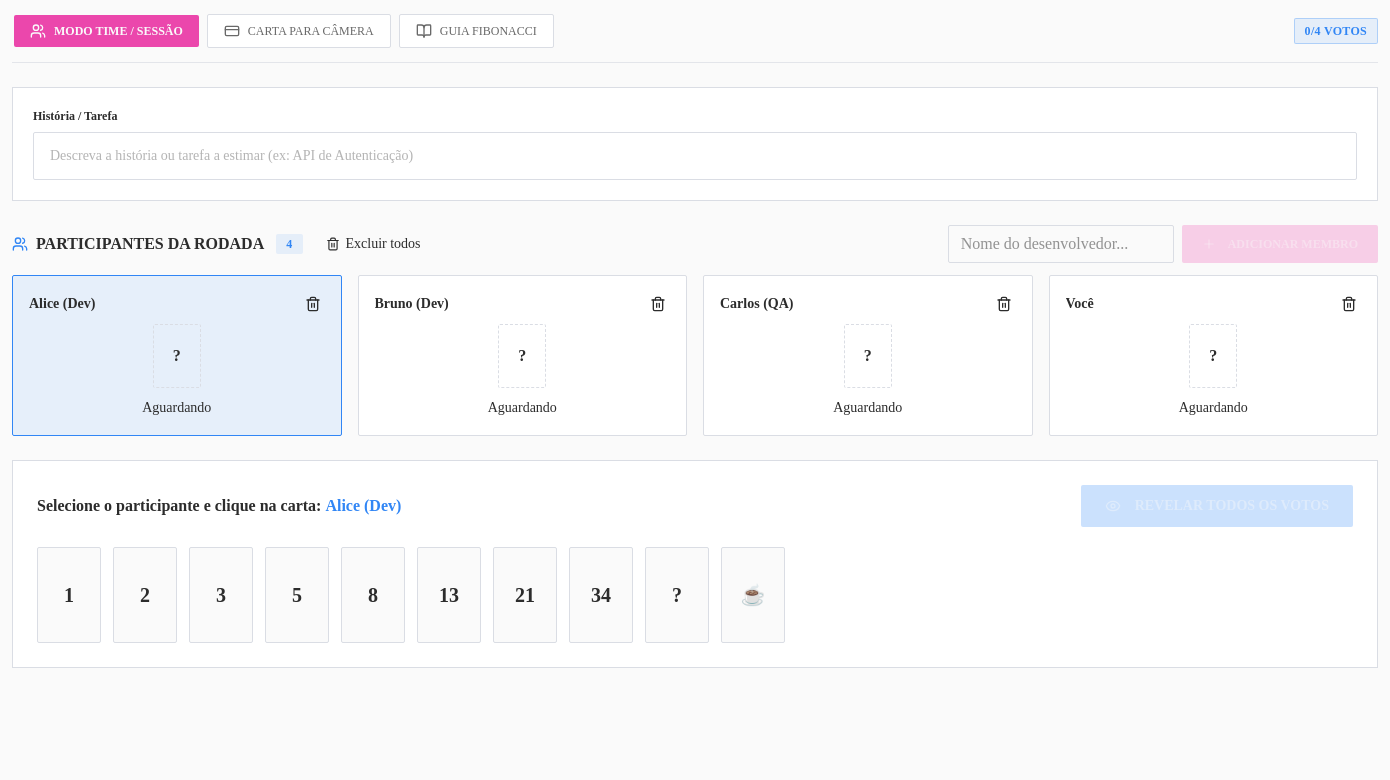
Scenario: Agile Tools Integration Tests › PlanningPokerClient › allows deleting individual participants down to zero
Click the button named "remover participante": [312, 304] box [300,292,324,316]
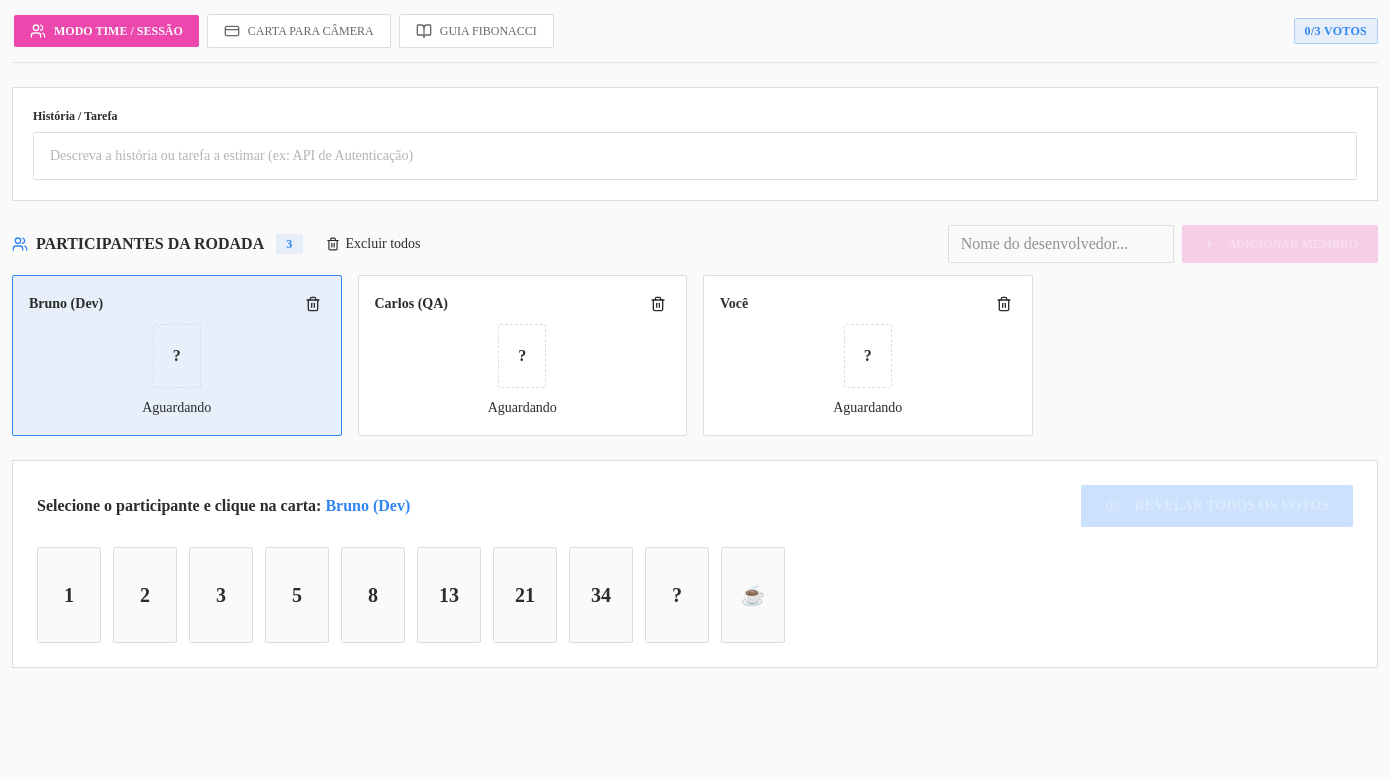
Click the button named "remover participante": [312, 304] box [300,292,324,316]
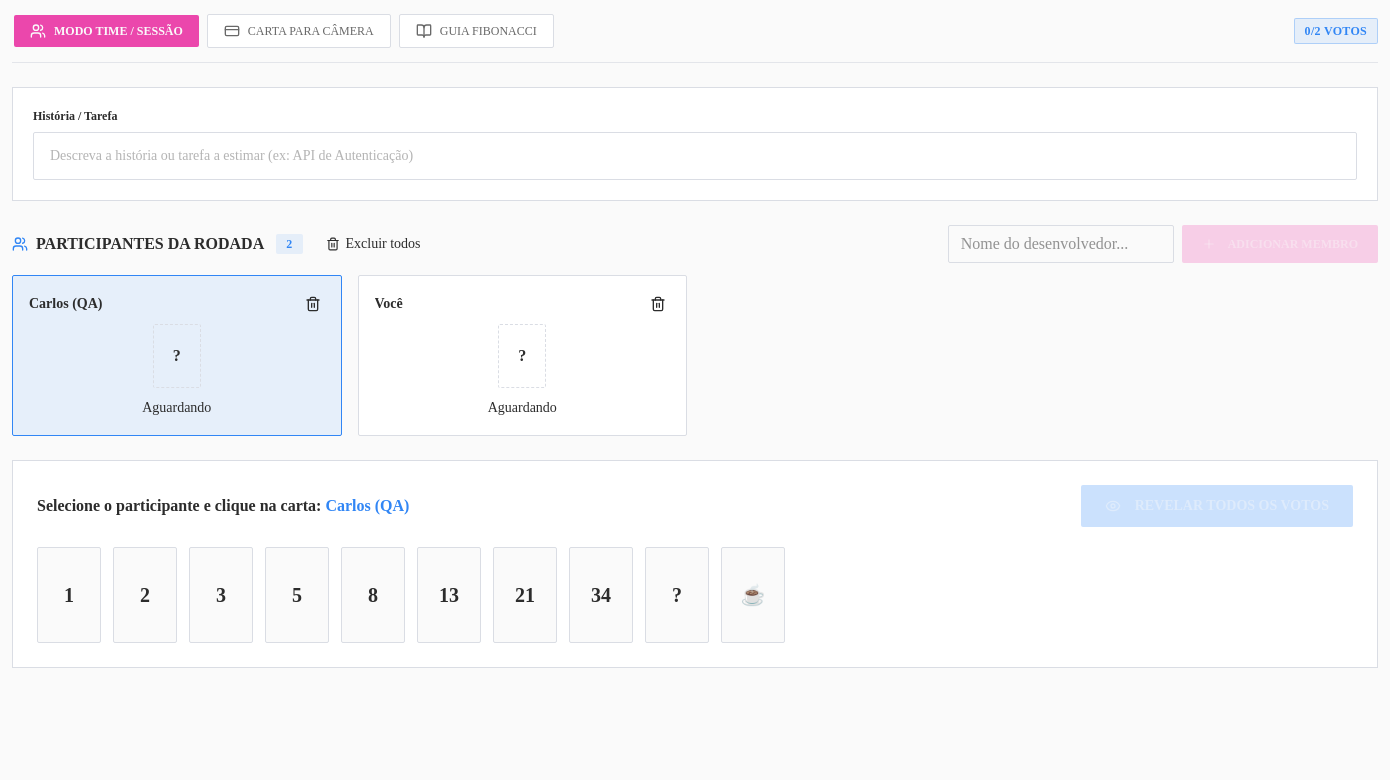
Click the button named "remover participante": [312, 304] box [300,292,324,316]
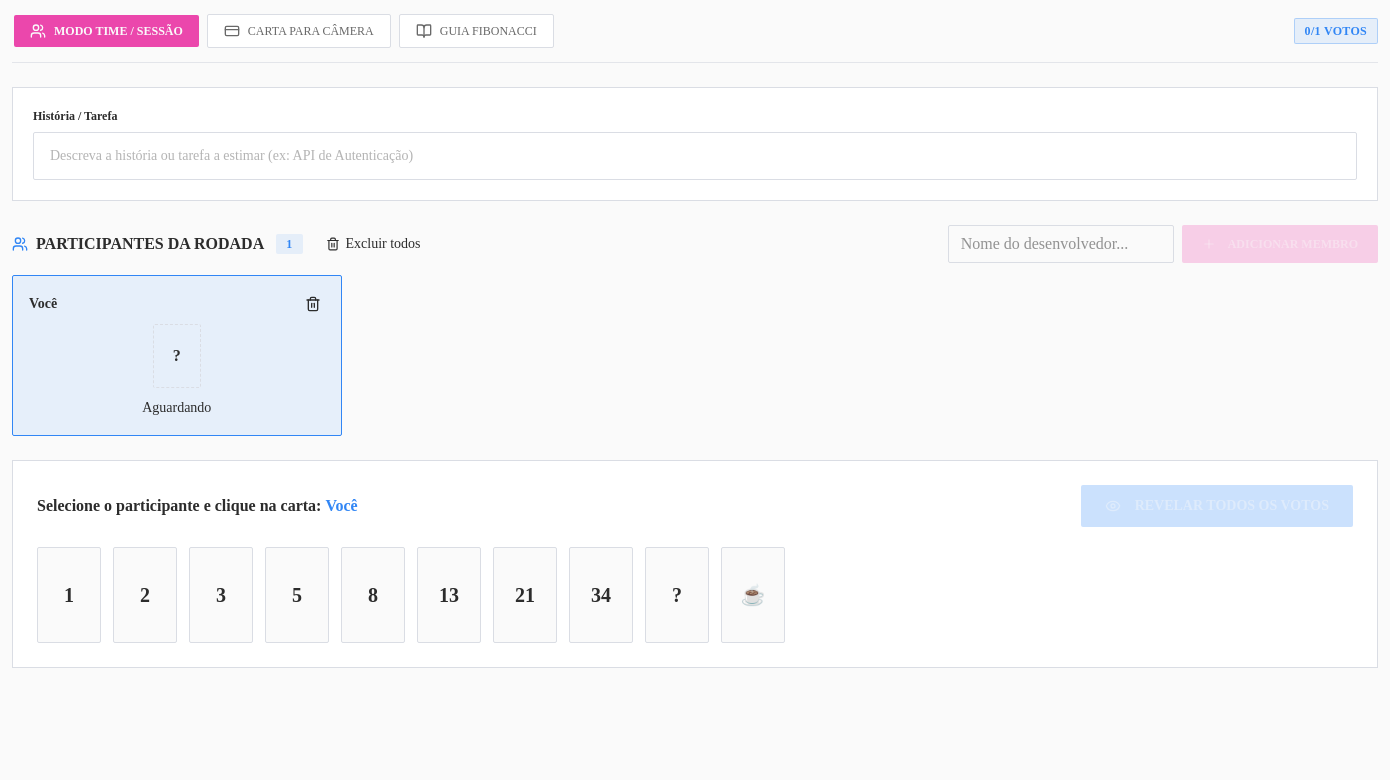
Click the button named "remover participante": [312, 304] box [300,292,324,316]
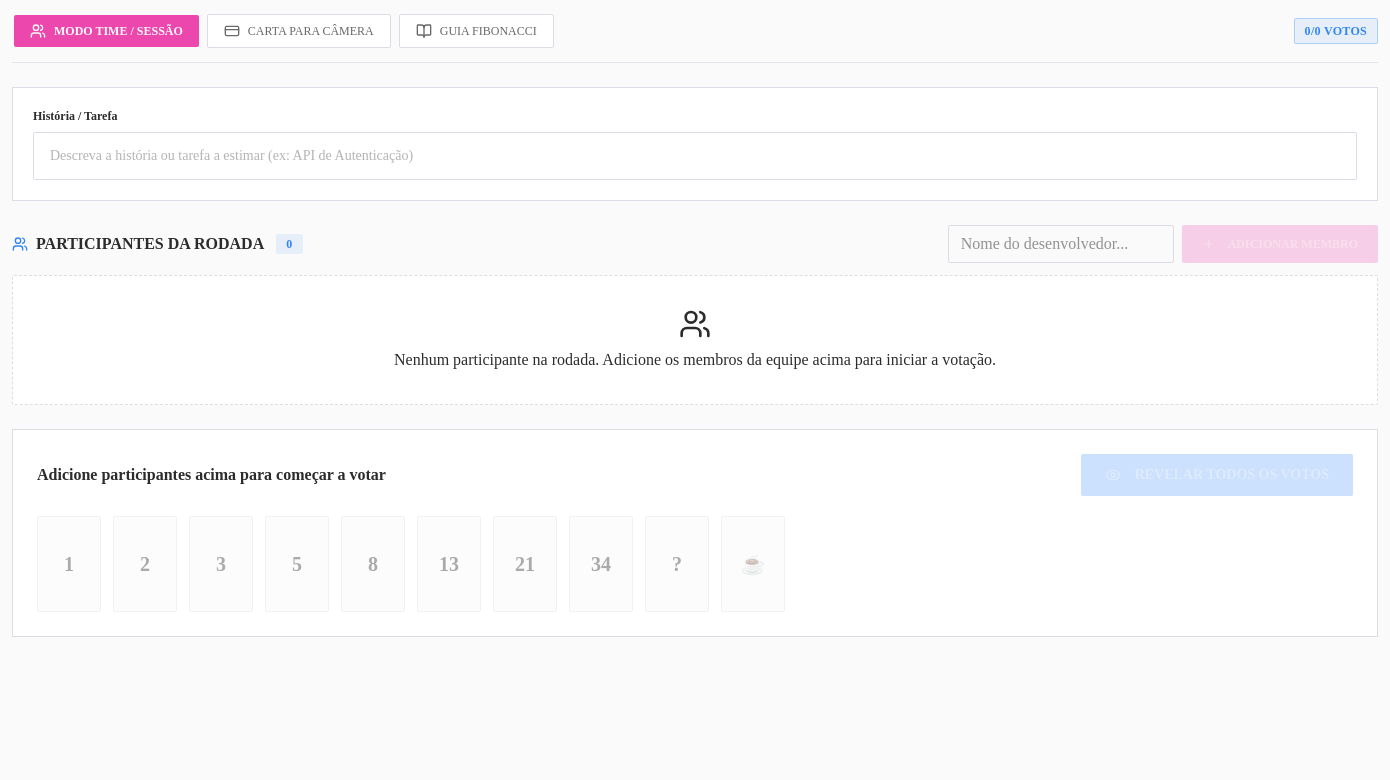
Expected: the text "Nenhum participante na rodada" is shown, [394,351,996,368]
